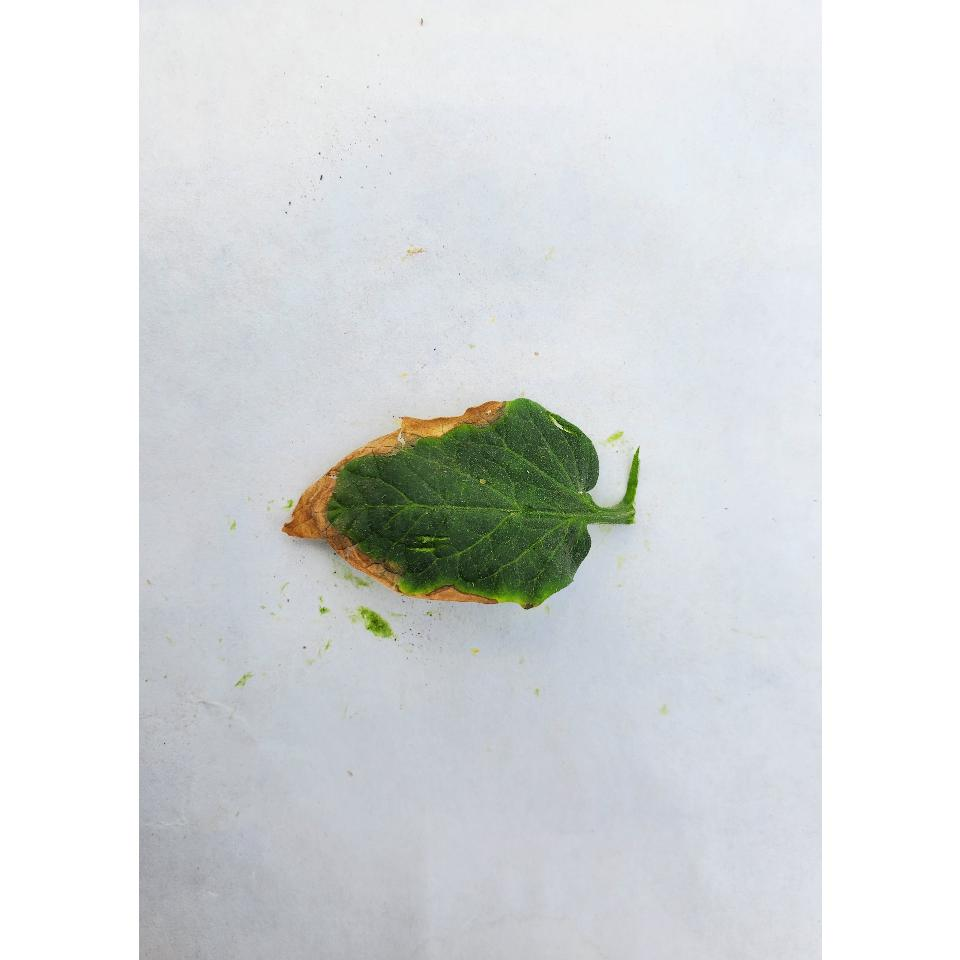tomato_bacterial_blight: (274, 405, 600, 603)
